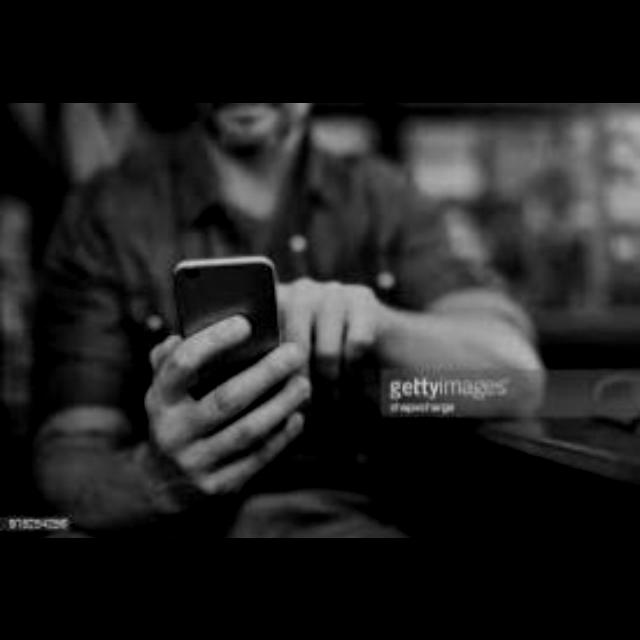fake: (144, 228, 315, 436)
